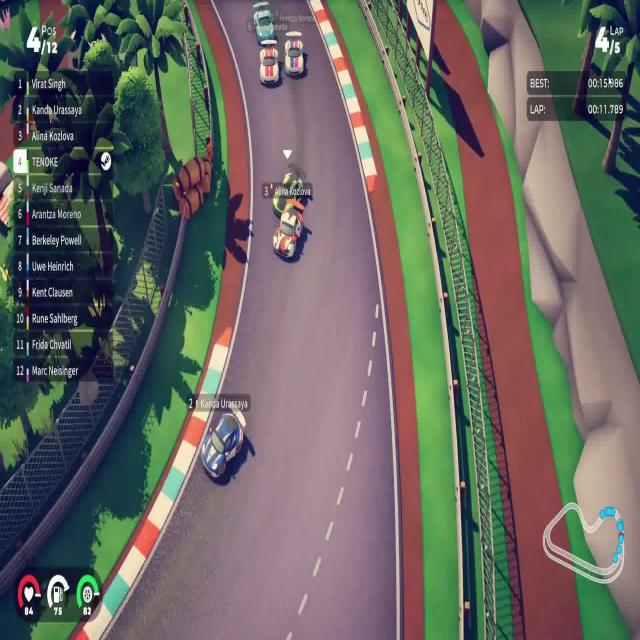car: (200, 408, 246, 480), (272, 203, 304, 260), (270, 165, 306, 213), (283, 29, 306, 78), (258, 45, 280, 86)
